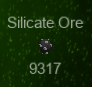Silicate: (7, 15, 84, 75)
